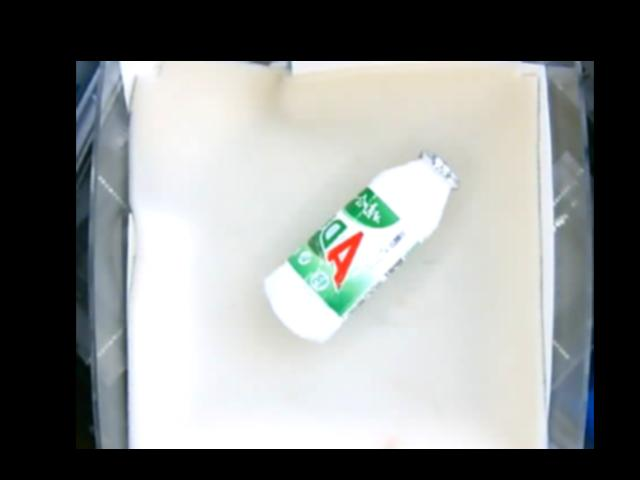Bottle: (264, 149, 457, 343)
